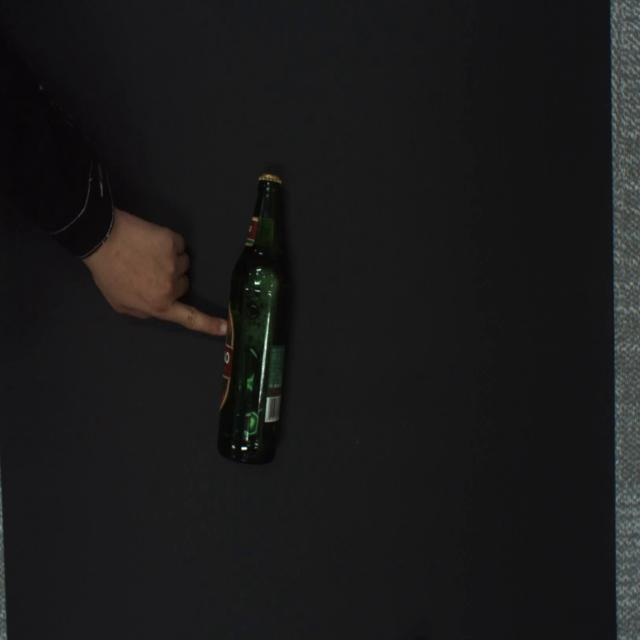beer-bottle: (217, 174, 291, 465)
